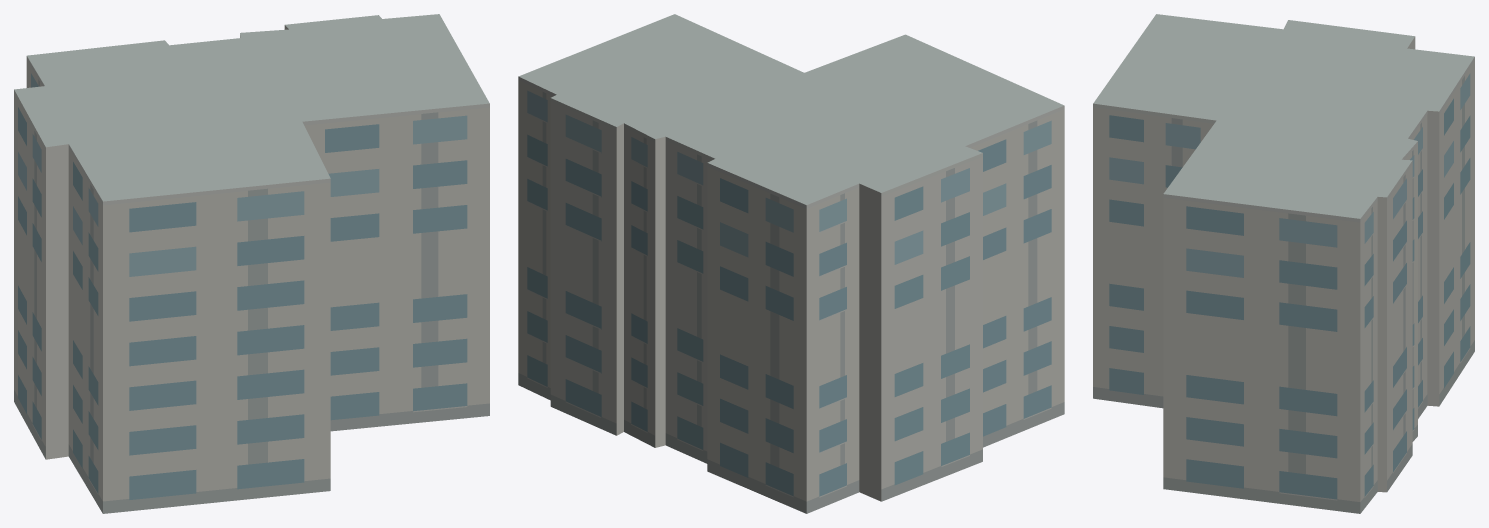
The model's file is survey-upis-32952466.glb.
The picture shows the model from 3 angles, left to right: view 1: azimuth 30°, elevation 25°; view 2: azimuth 150°, elevation 25°; view 3: azimuth 270°, elevation 25°; orthographic projection. The views are drawn at different scales.
Visible parts, largest first — view 1: survey-upis-32952466.tmp; view 2: survey-upis-32952466.tmp; view 3: survey-upis-32952466.tmp.
Boxes of the visible parts, x1,y1,x2,y2 form: survey-upis-32952466.tmp: (14, 14, 489, 513); survey-upis-32952466.tmp: (518, 14, 1064, 513); survey-upis-32952466.tmp: (1093, 14, 1474, 513).
Size of the model in its own units: 29.94 by 20.1 by 23.58.
